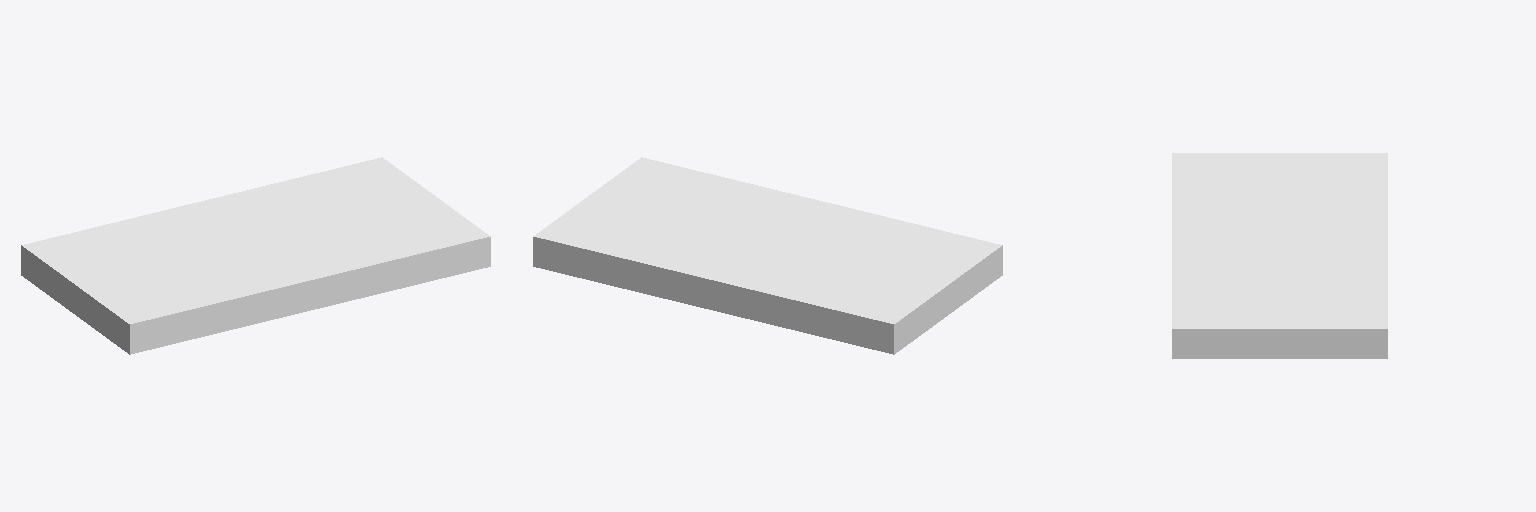
File: Dollars(voxel).obj
3 views of the same model, side by side, from view 1: azimuth 30°, elevation 25°; view 2: azimuth 150°, elevation 25°; view 3: azimuth 270°, elevation 25° (orthographic).
Visible parts, largest first — view 1: object 1; view 2: object 1; view 3: object 1.
Boxes of the visible parts, box(x1,y1,x2,y2) form: object 1: box(21, 157, 490, 354); object 1: box(533, 157, 1002, 354); object 1: box(1172, 153, 1387, 358).
Size of the model in its own units: 2.5 by 0.2 by 1.3.